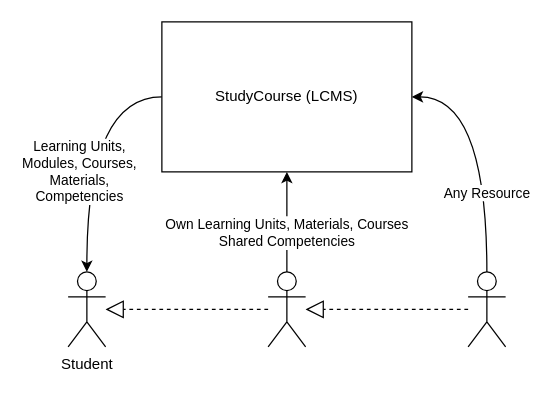
This 551x395 diagram has some shape labels left out. Here are the shapes that lost their labels. From the top down, the centre of each, then its label:
At point 286,309: "Professor".
At point 486,309: "Admin".
